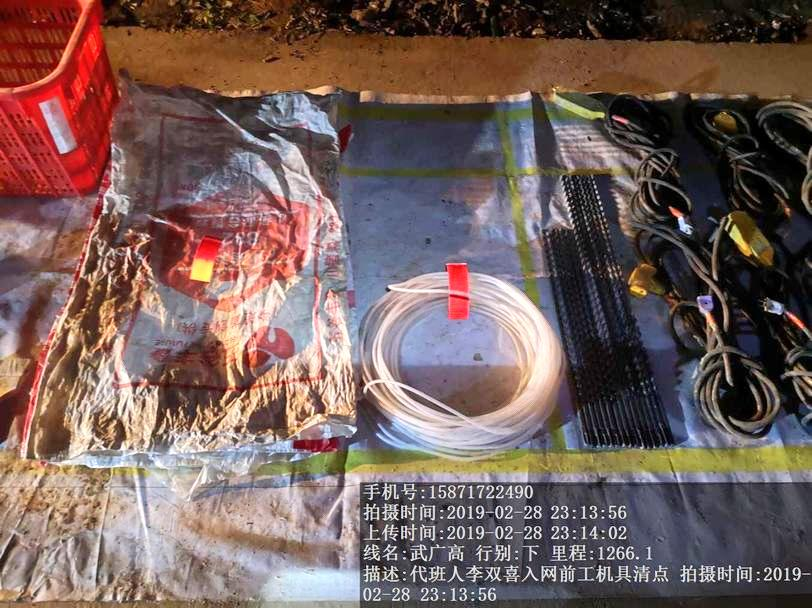BZD: (27, 81, 354, 465)
SG: (356, 270, 568, 459)
